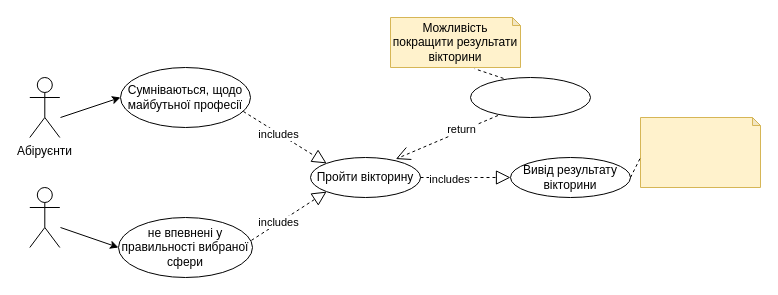
Some shapes in this 778 by 295 pixel diagram are drawn without their labels. Each missing label, with the centre of its shape:
При правильній відповіді виводить, додатково, цікаву інформацію: the point at 700,152
Пройти вікторину з початку: the point at 530,97
Студенти: the point at 44,217
